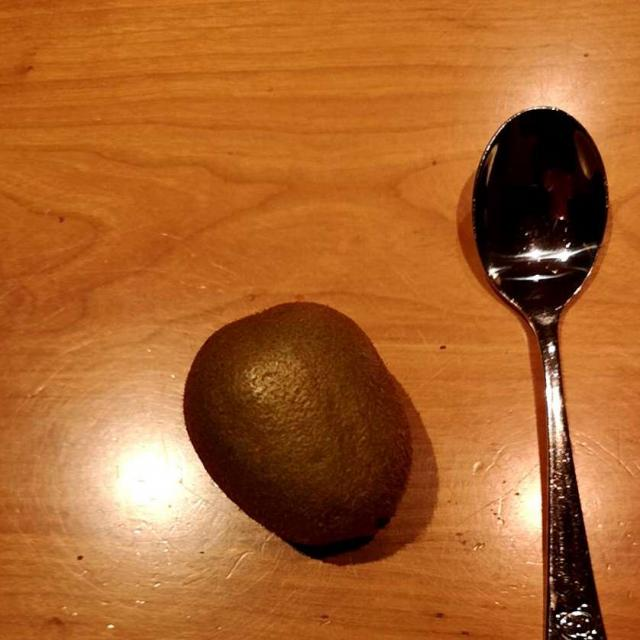kiwi: (183, 307, 416, 543)
